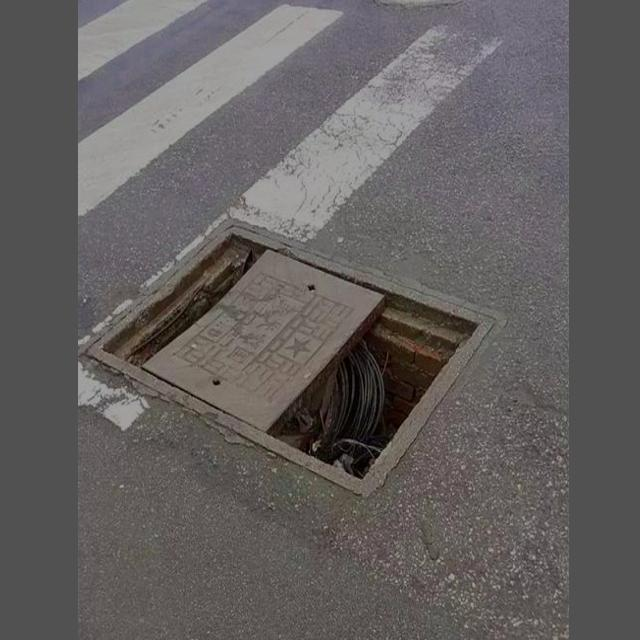lose: (83, 196, 500, 510)
